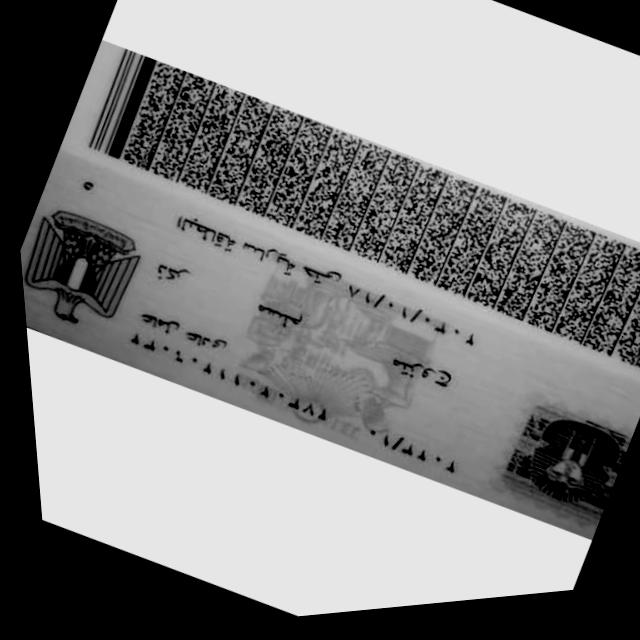id_card: (20, 40, 640, 539)
